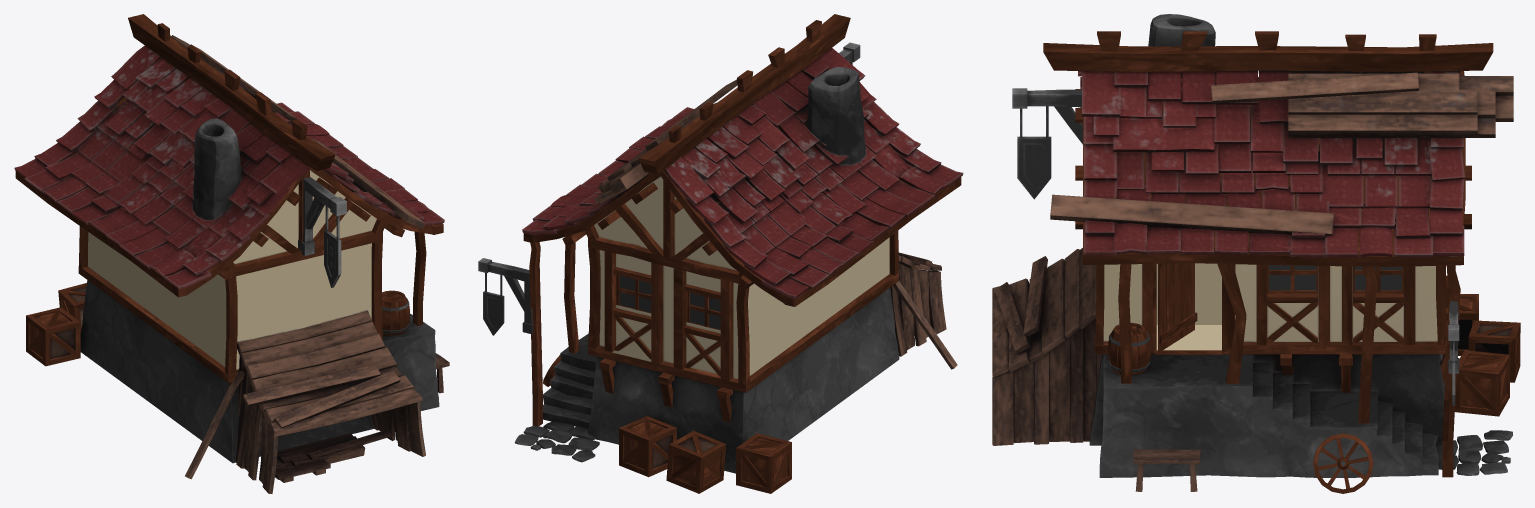
Rendered from Building_5.fbx.
The picture shows the model from 3 angles, left to right: view 1: azimuth 30°, elevation 25°; view 2: azimuth 150°, elevation 25°; view 3: azimuth 270°, elevation 25°; orthographic projection. The views are drawn at different scales.
Parts seen in each view (by area): view 1: Building_5_LOD0; view 2: Building_5_LOD0; view 3: Building_5_LOD0.
Part boxes in pixels (x1,y1,x2,y2): Building_5_LOD0: [14, 14, 449, 493]; Building_5_LOD0: [478, 14, 963, 493]; Building_5_LOD0: [992, 14, 1520, 493].
Size of what is drawn, in the model's own units: 914 by 877 by 1129.
